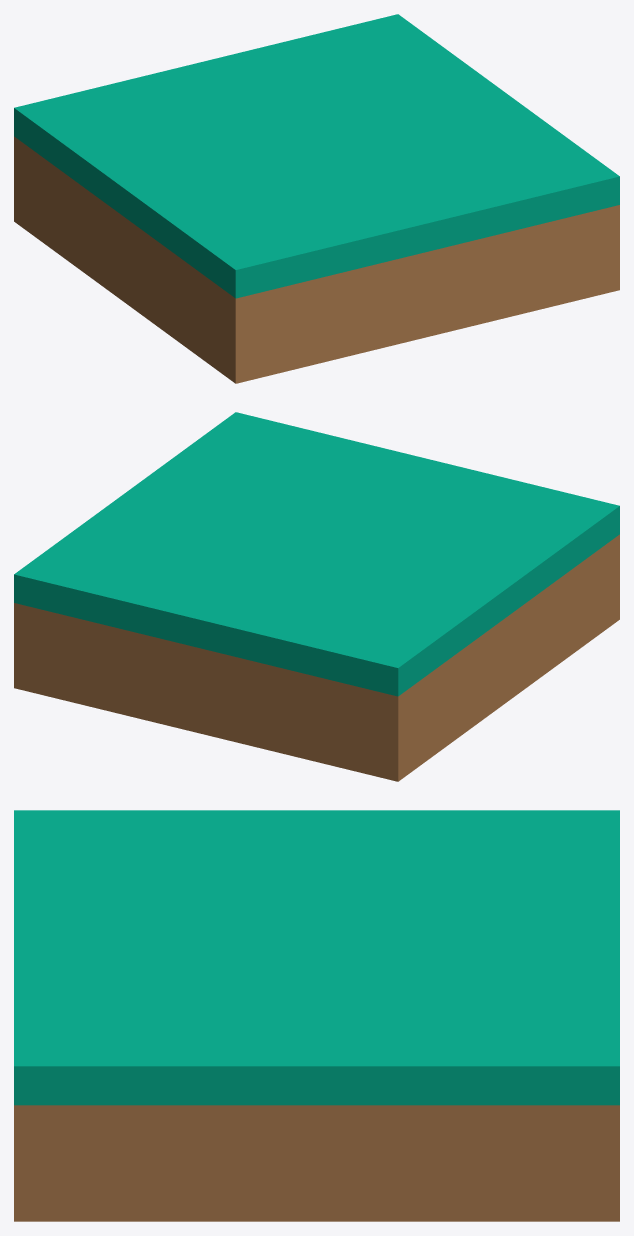
File: platform Square.fbx
3 views of the same model, one above another, from view 1: azimuth 30°, elevation 25°; view 2: azimuth 150°, elevation 25°; view 3: azimuth 270°, elevation 25° (orthographic). The views are drawn at different scales.
Visible parts, largest first — view 1: Boole; view 2: Boole; view 3: Boole.
Boxes of the visible parts, x1=… form: Boole: x1=14, y1=14, x2=619, y2=383; Boole: x1=14, y1=412, x2=619, y2=781; Boole: x1=14, y1=810, x2=619, y2=1221.
Bounding box in the file's own units: 707 × 200 × 707.
